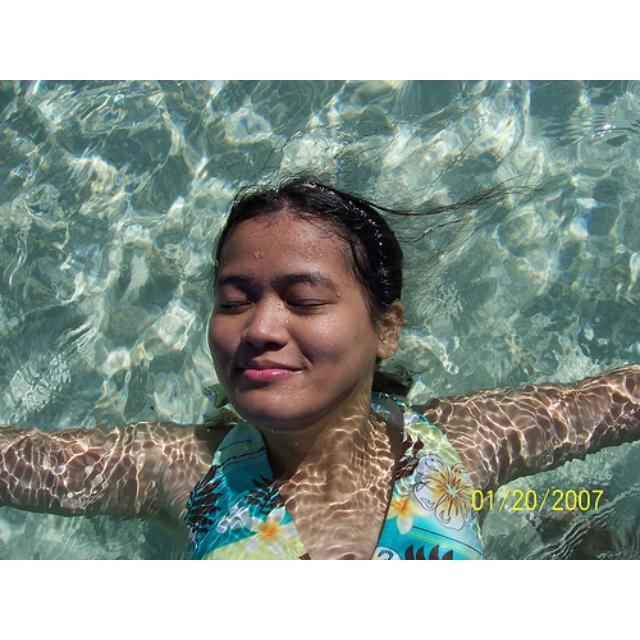human: (1, 161, 639, 560)
